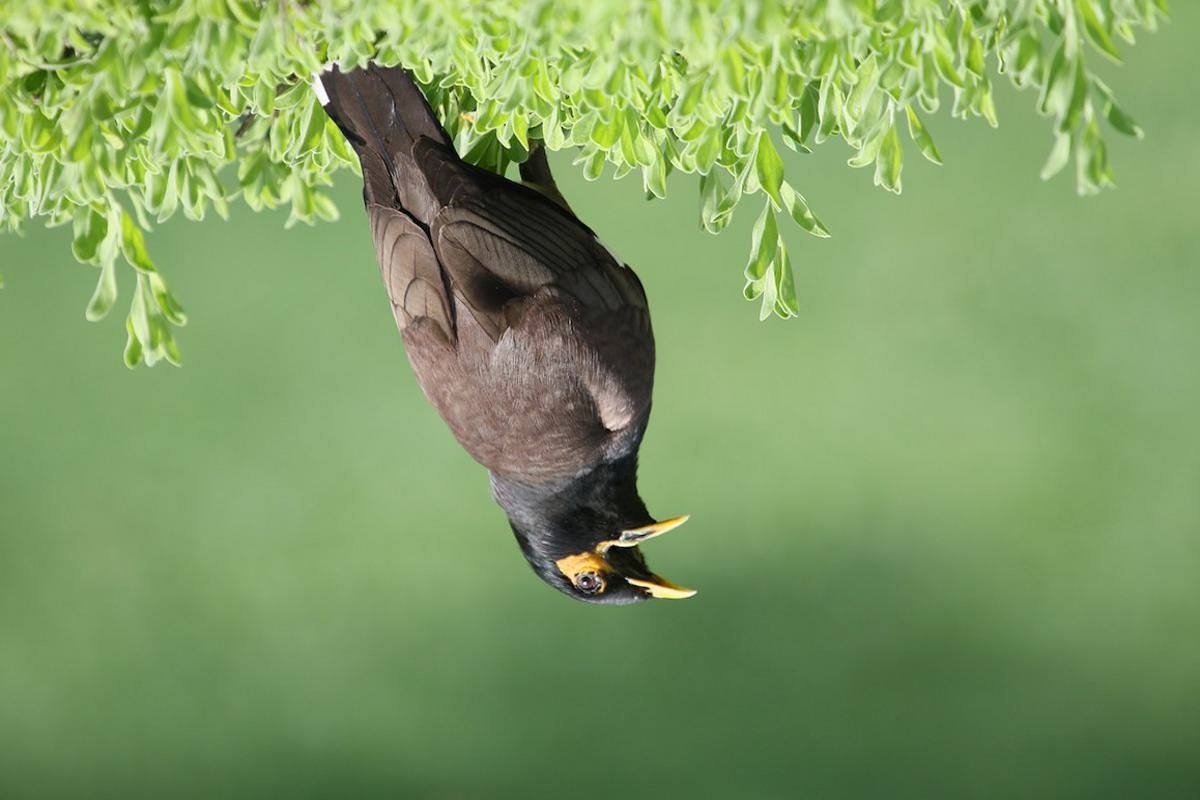myna: (290, 48, 727, 628)
